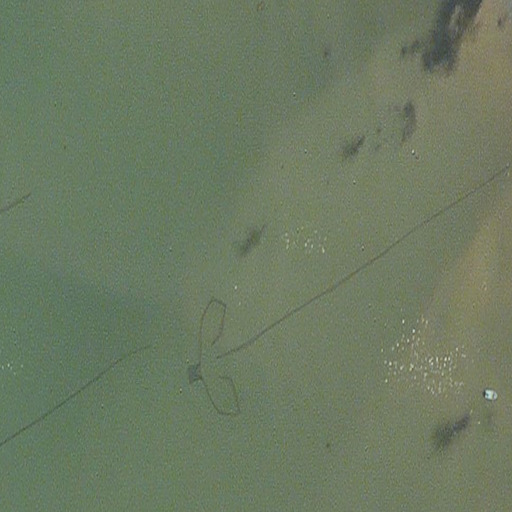ship: (483, 388, 497, 403)
